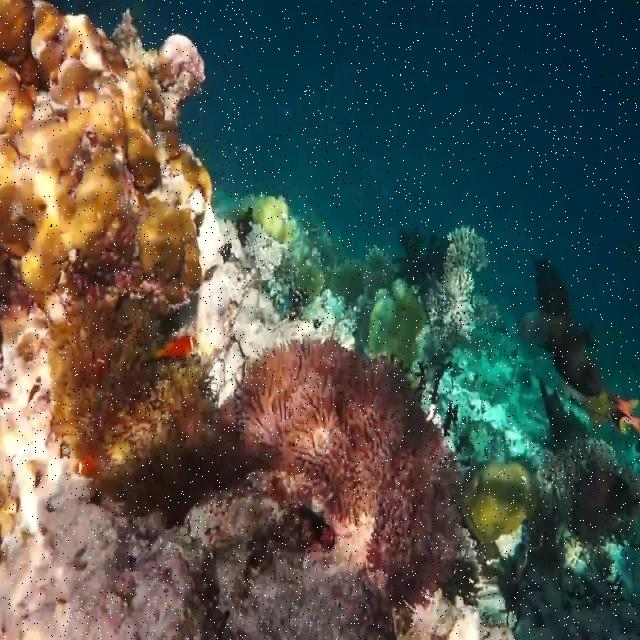reefs: (1, 307, 516, 638), (0, 2, 212, 314), (222, 336, 461, 604), (47, 297, 212, 517)
